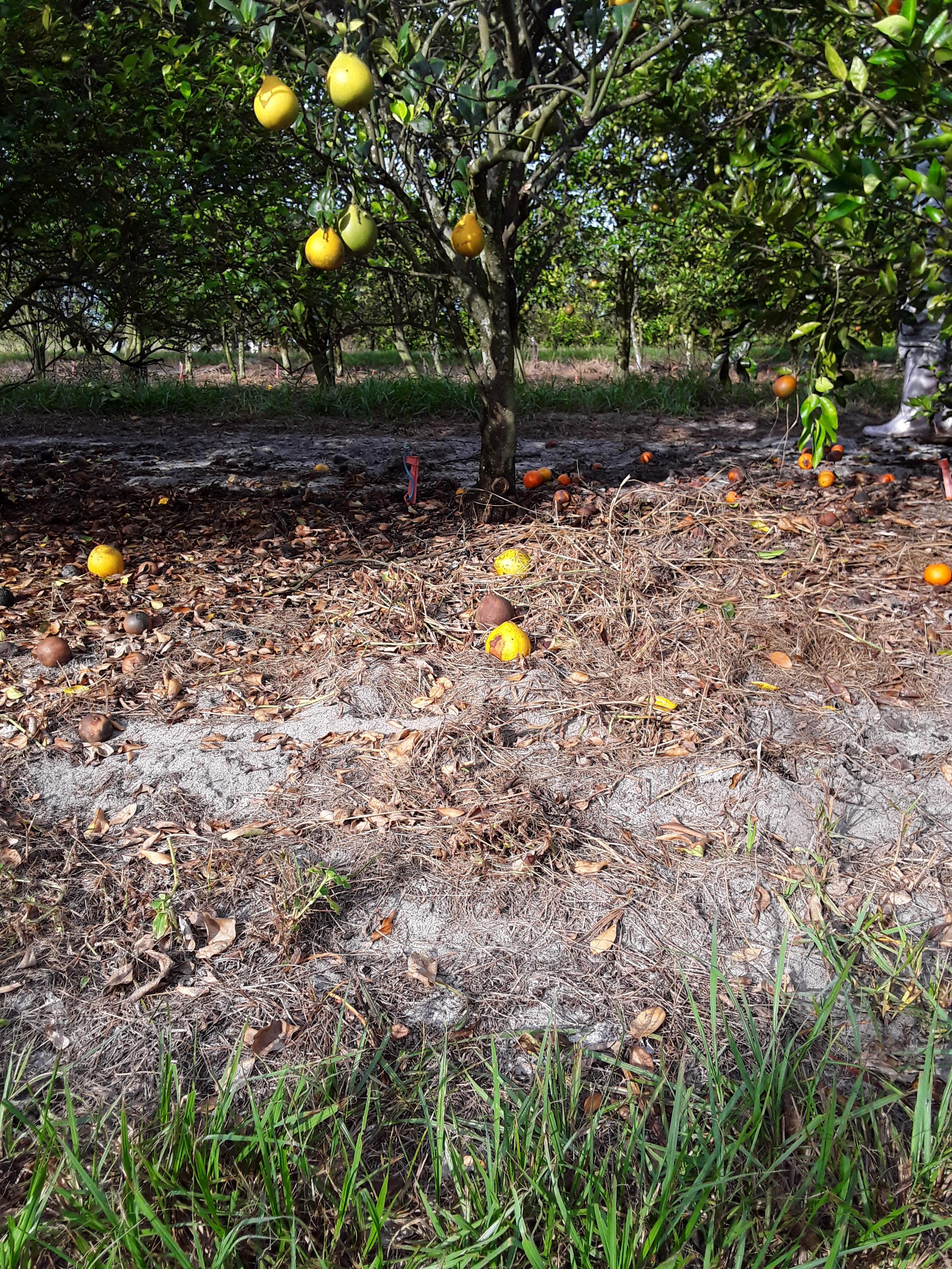fruit_on_ground: (326, 50, 376, 114), (251, 75, 303, 134), (335, 200, 379, 258), (303, 226, 348, 272), (448, 209, 488, 260), (771, 374, 800, 402), (648, 200, 663, 214), (562, 303, 576, 317), (658, 150, 670, 164), (587, 279, 600, 290), (649, 155, 661, 166)
fruit_on_tree: (486, 621, 534, 665), (474, 593, 516, 634), (495, 544, 534, 582), (85, 544, 126, 580), (35, 636, 76, 668), (121, 609, 156, 638), (921, 559, 952, 591), (520, 468, 545, 491), (816, 467, 838, 490), (550, 486, 572, 509), (816, 510, 842, 529), (796, 450, 817, 471), (725, 465, 746, 484), (872, 470, 894, 488), (827, 441, 845, 462), (724, 488, 742, 507), (310, 461, 331, 477), (556, 469, 573, 487), (637, 449, 655, 463)
